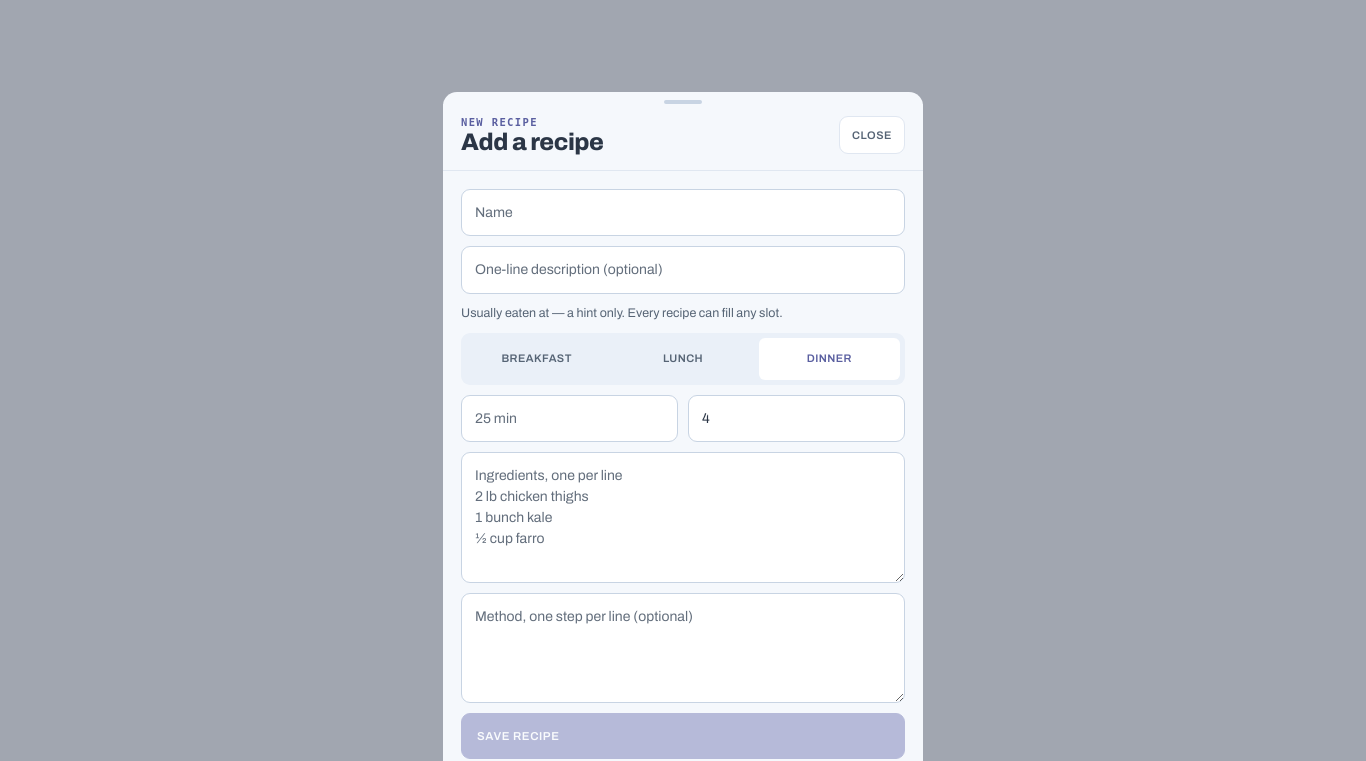
Test case: RecipeForm duplicate guard › warns when the name is already in the cookbook
Type "Meatloaf (Faye's)" into the field named "recipe name" at (683, 212), box [461,189,905,236]
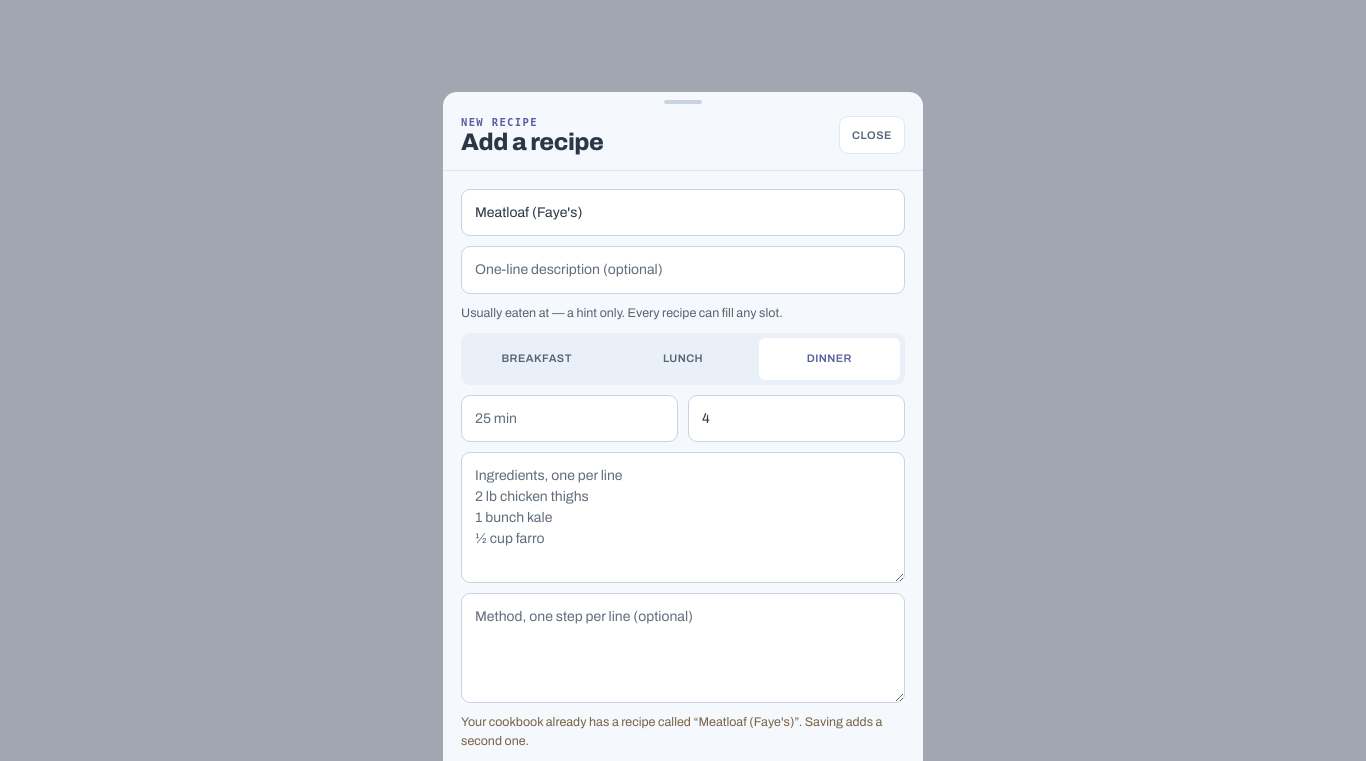
Check: the text "already has a recipe" is shown, box [461,716,698,730]
